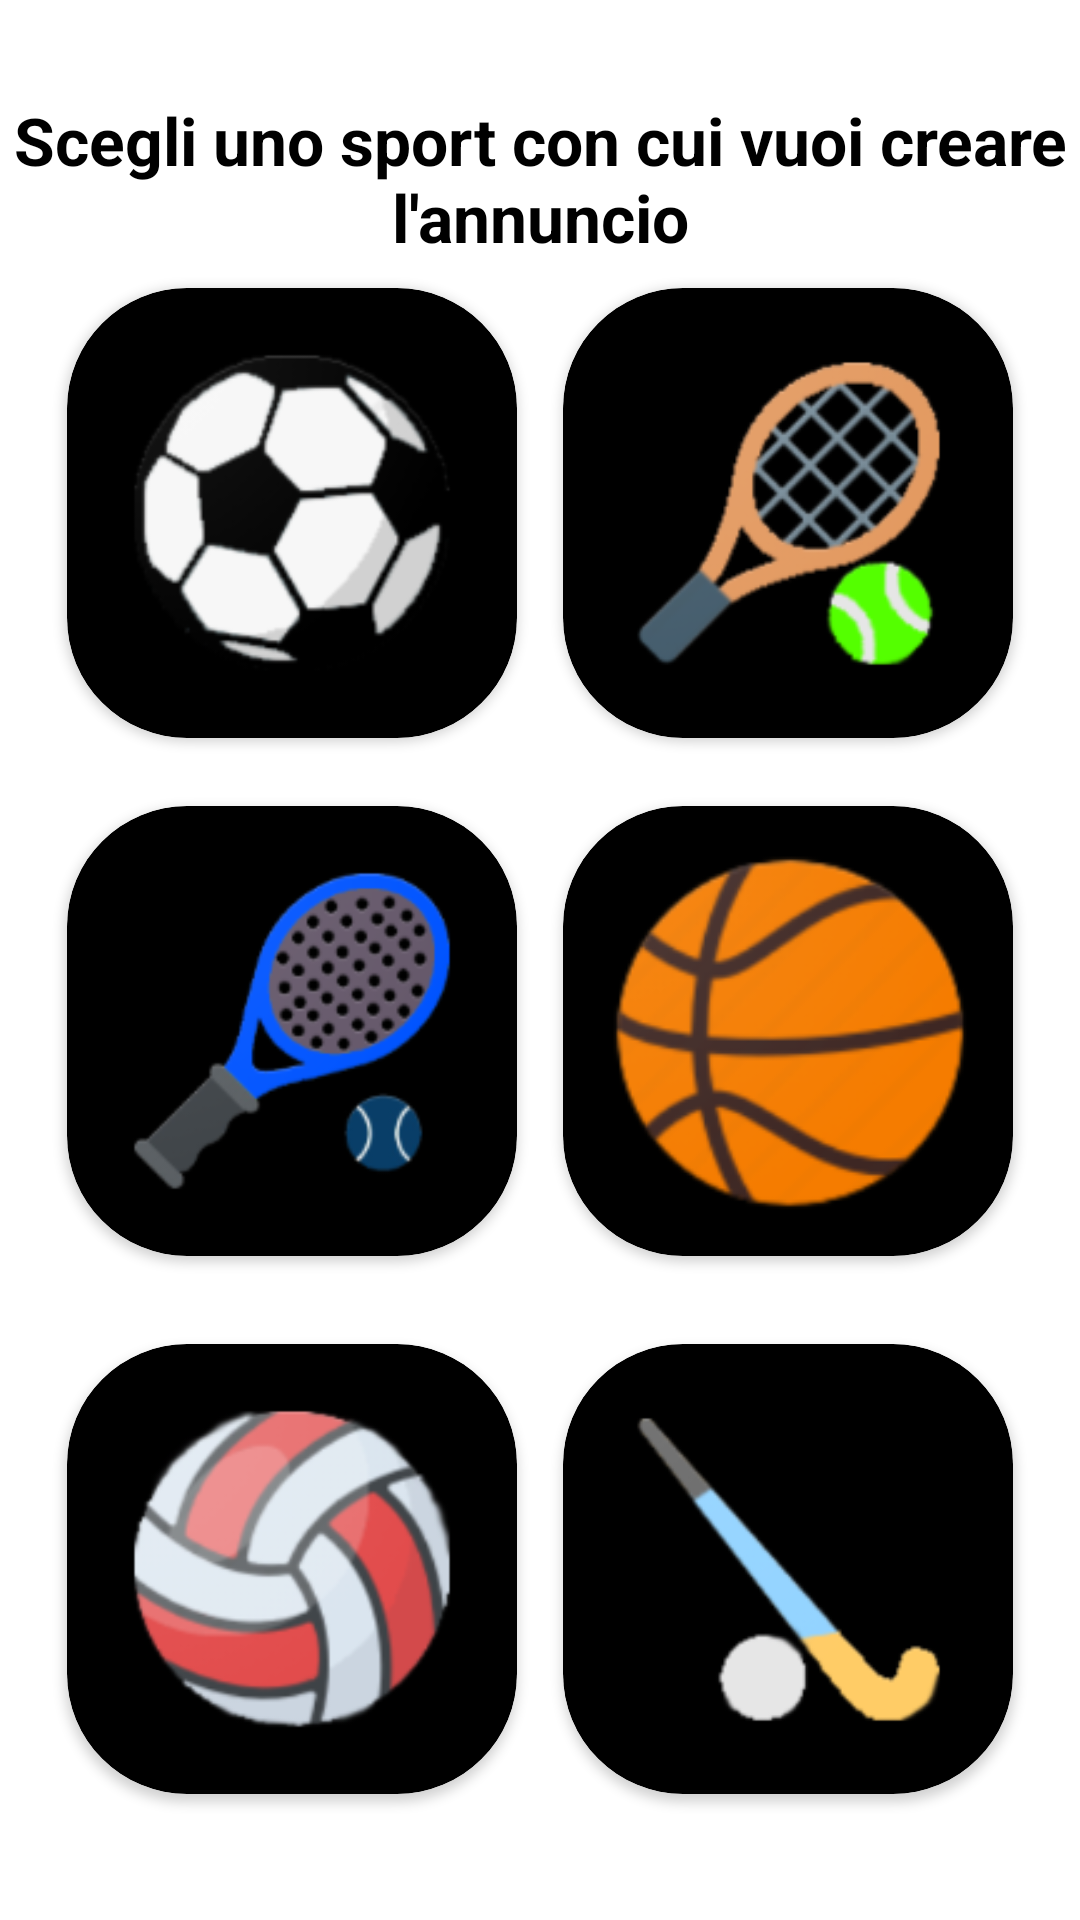

Screen size 1080 × 1920. Icon name, then its center in pixels as [x,y]:
basketball: [790,1033]
hockey: [789,1569]
paddle: [292,1030]
soccer: [288,508]
tennis: [789,513]
volleyball: [291,1569]
